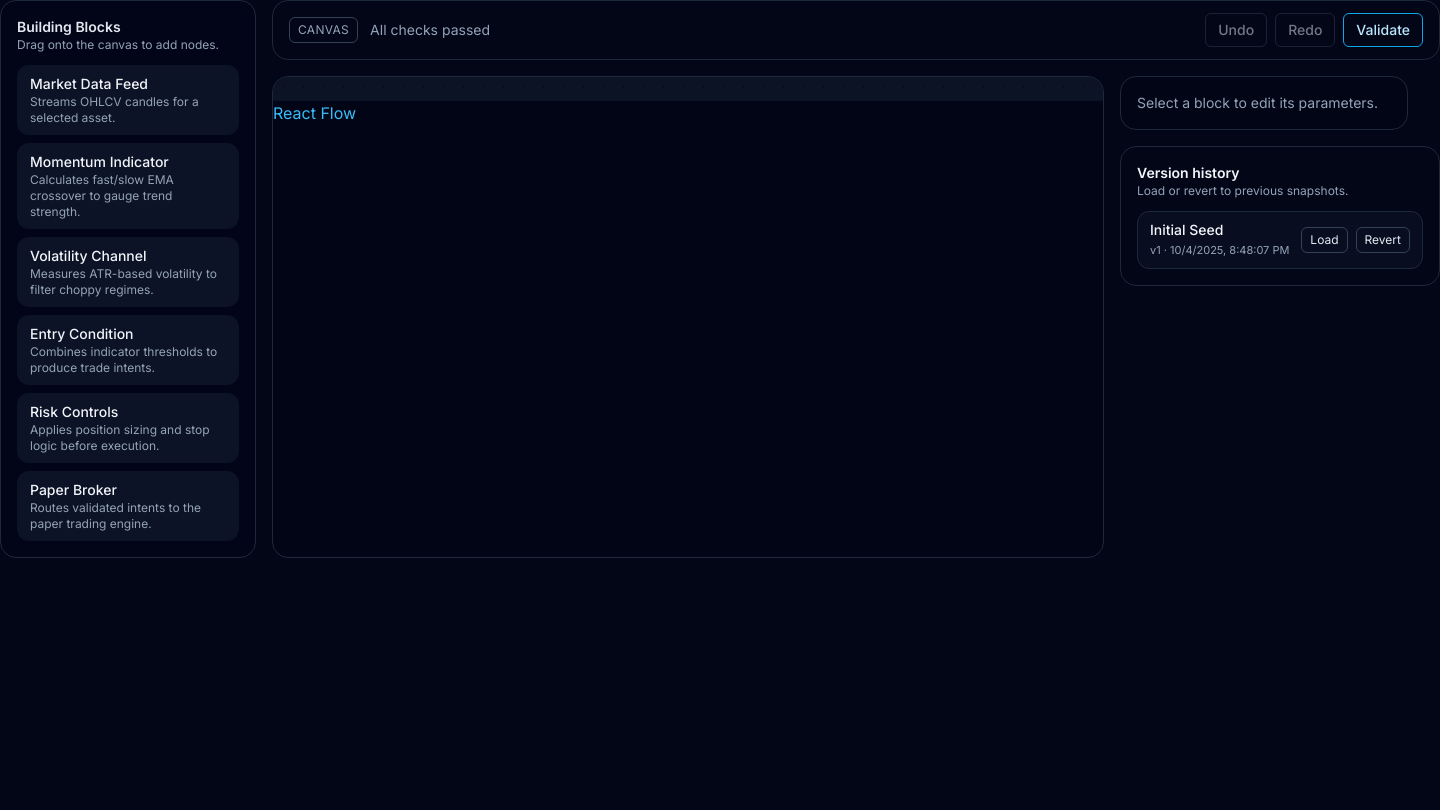
Test: StrategyCanvas integration › shows revert success feedback
What coordinates should you click on to do the following:
click the button "Revert"
I would click on:
 (1383, 240)
Its box is [1356,227,1410,253].
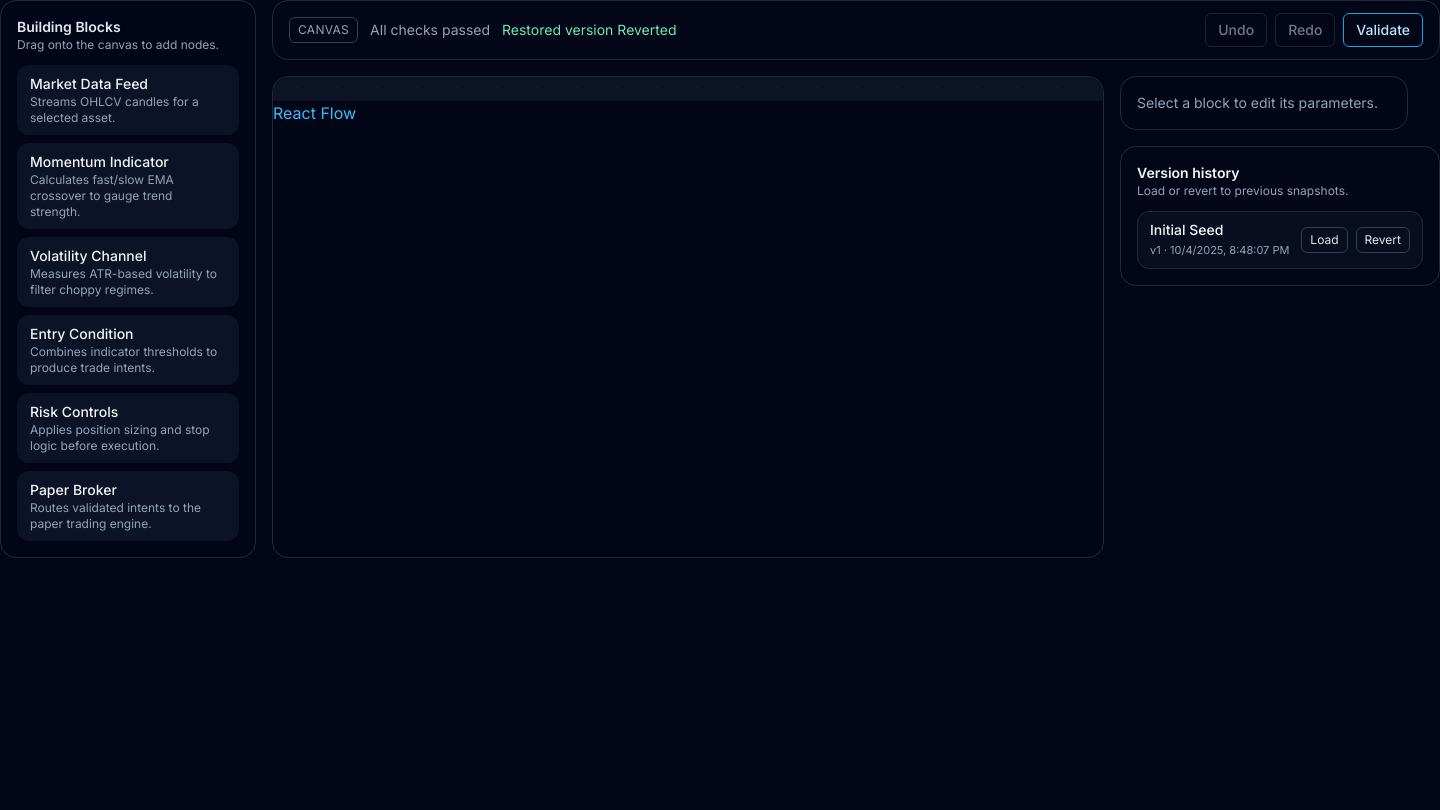
Result: the text "Restored version Reverted" is shown at [502,20,676,40]
